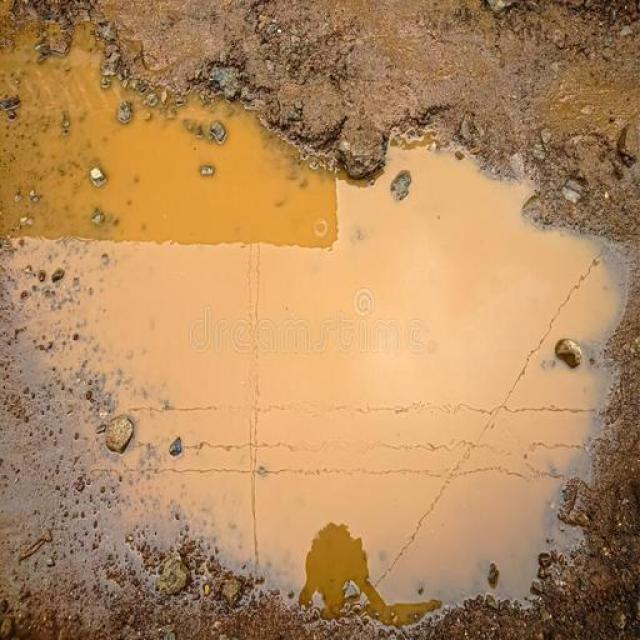puddle: (95, 125, 566, 596)
